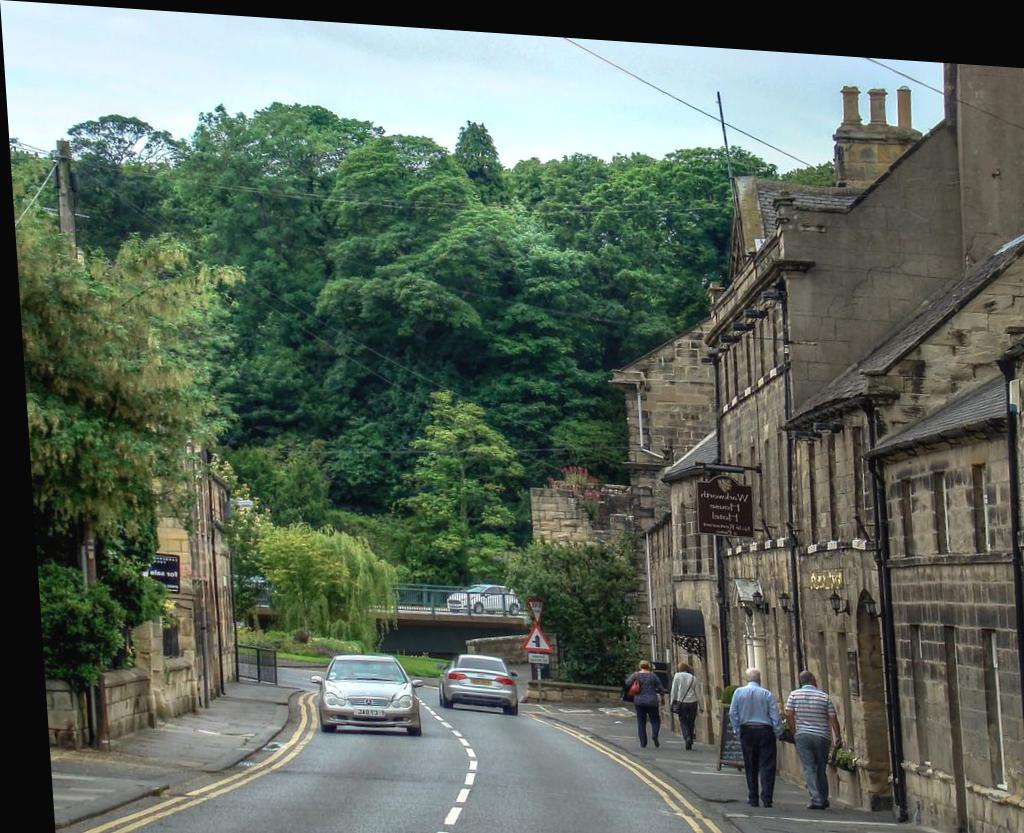License_Plate: (354, 708, 387, 718)
